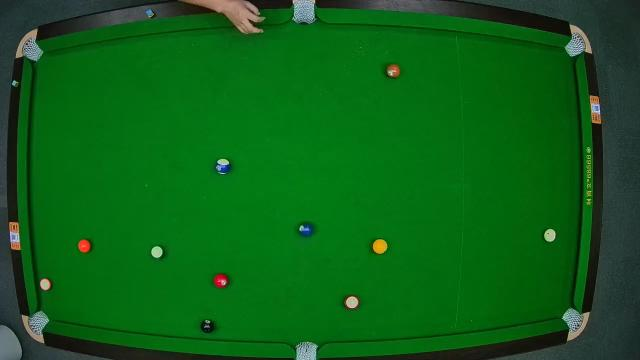bag1: (22, 40, 44, 62)
bag2: (292, 1, 316, 23)
bag3: (566, 33, 586, 57)
bag4: (28, 309, 48, 335)
bag5: (294, 340, 318, 360)
bag6: (562, 306, 584, 332)
ball0: (542, 228, 558, 244)
ball1: (373, 238, 389, 256)
ball10: (214, 158, 232, 176)
ball11: (344, 294, 360, 310)
ball12: (40, 279, 52, 291)
ball14: (150, 245, 166, 260)
ball2: (298, 223, 314, 237)
ball3: (213, 273, 230, 289)
ball5: (76, 238, 92, 254)
ball7: (387, 62, 401, 80)
ball8: (200, 318, 217, 334)
